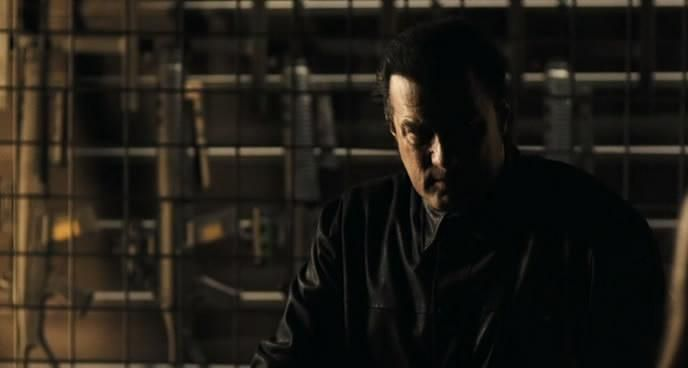gun: (8, 30, 116, 348), (135, 40, 235, 332), (270, 27, 338, 289)
